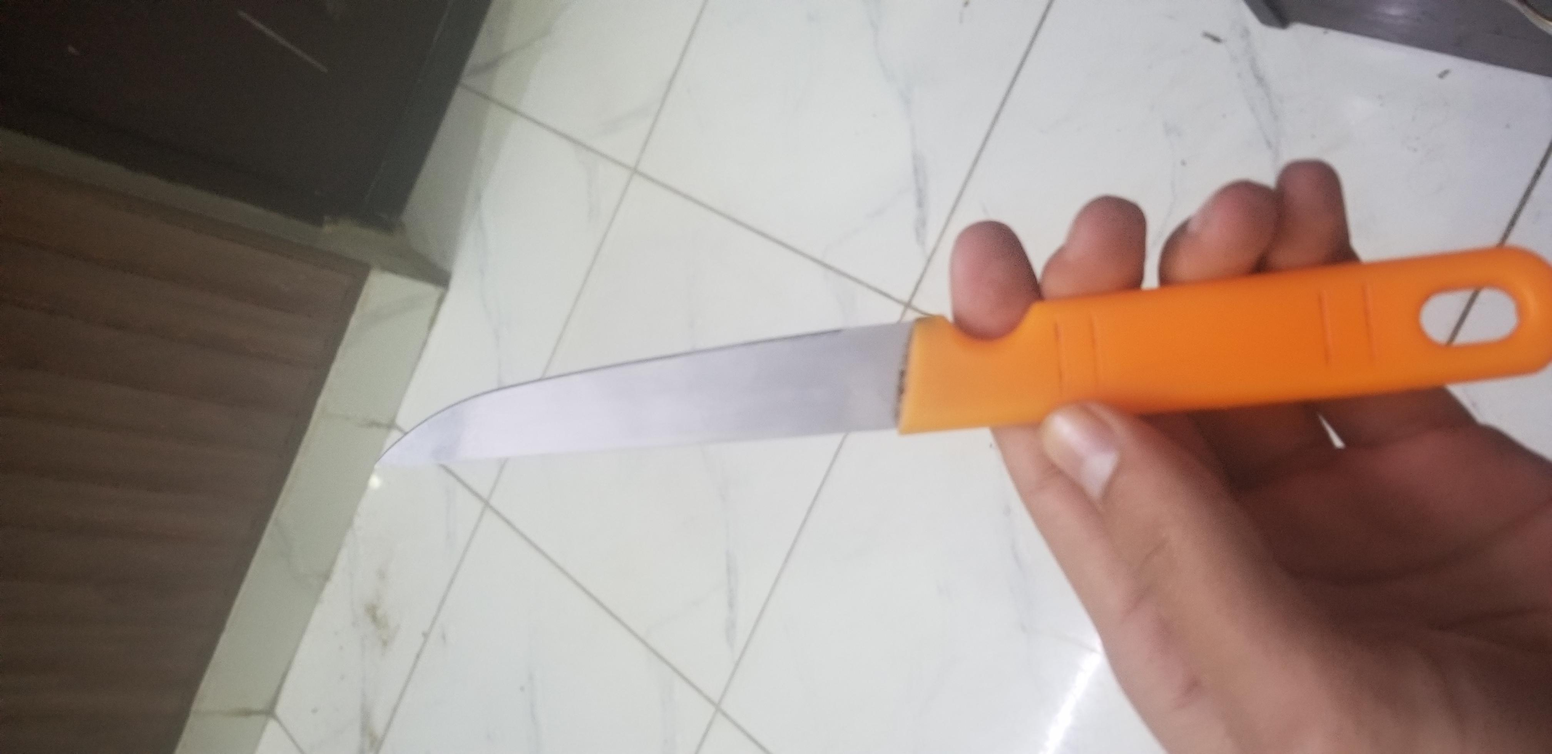knives: (533, 181, 1126, 754)
